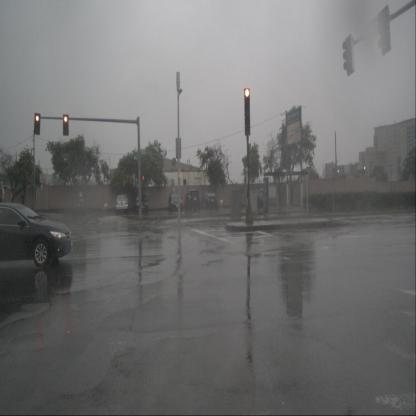vehicle-car: (0, 202, 73, 268), (184, 188, 201, 212), (201, 191, 218, 211), (133, 193, 149, 214), (255, 187, 270, 208), (168, 192, 183, 213), (116, 194, 130, 214)
